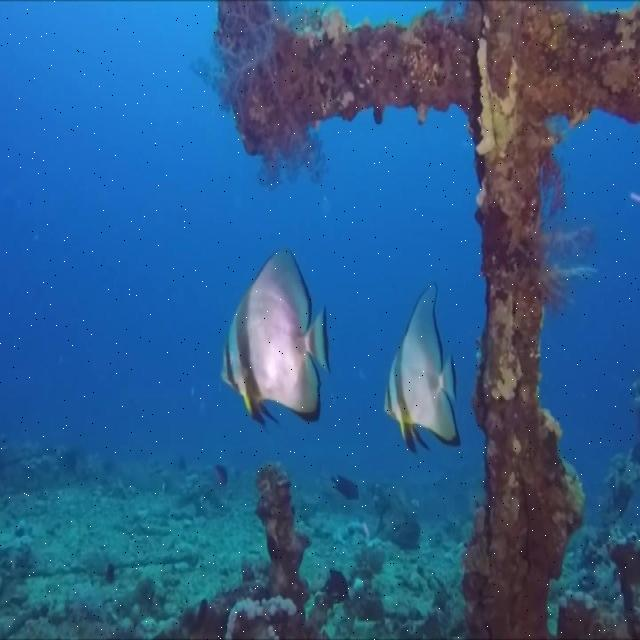fish: (222, 246, 334, 426), (385, 278, 460, 453)
wrecks-ruins: (189, 0, 639, 639)
